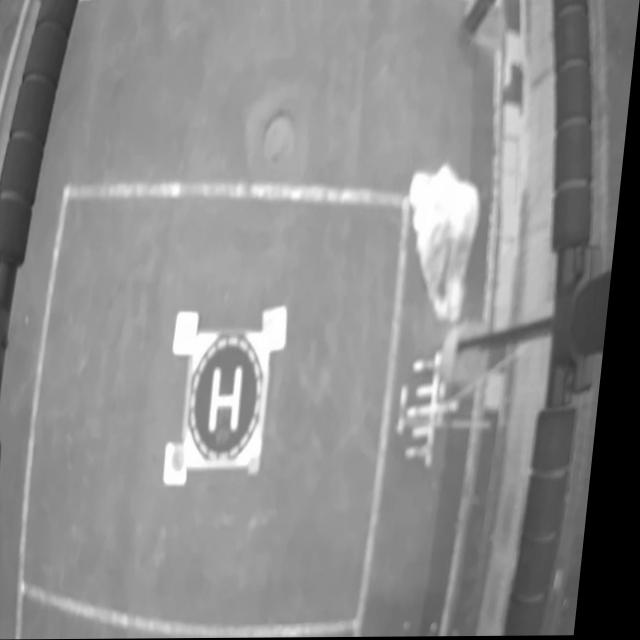Helipad: (217, 363, 251, 435)
